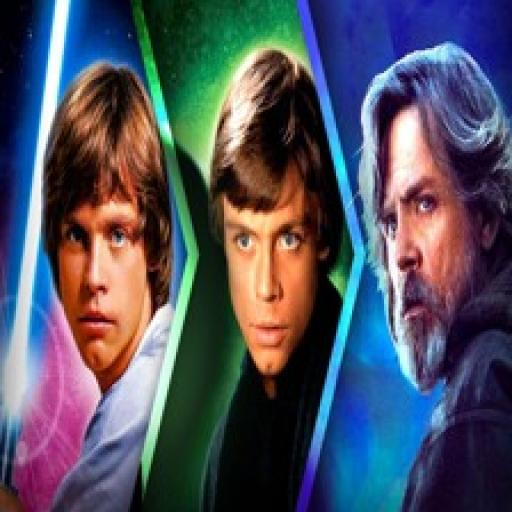human: (359, 41, 512, 512), (198, 42, 342, 512), (38, 66, 174, 512)
lightsaber: (0, 0, 80, 512)
